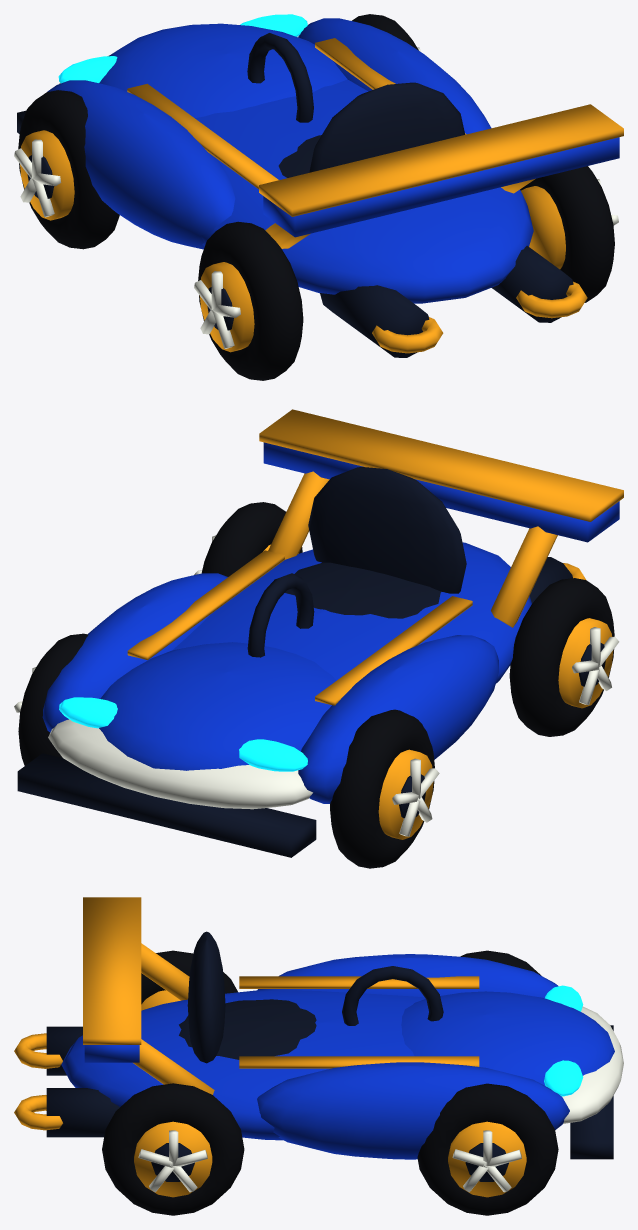
Rendered from kart_blue.glb.
3 renders of one model, top to bottom at view 1: azimuth 30°, elevation 25°; view 2: azimuth 150°, elevation 25°; view 3: azimuth 270°, elevation 25°, orthographic. The views are drawn at different scales.
Visible parts, largest first — view 1: body, wheel-back-left, wheel-front-left, wheel-back-right, wheel-front-right; view 2: body, wheel-back-left, wheel-front-left, wheel-back-right, wheel-front-right; view 3: body, wheel-back-right, wheel-front-right, wheel-back-left, wheel-front-left.
Part boxes in pixels (bbox=[...]): body: bbox=[17, 14, 623, 357]; wheel-back-left: bbox=[194, 221, 303, 380]; wheel-front-left: bbox=[14, 90, 119, 249]; wheel-back-right: bbox=[520, 166, 618, 302]; wheel-front-right: bbox=[352, 14, 420, 51]; body: bbox=[17, 409, 623, 857]; wheel-back-left: bbox=[509, 578, 619, 736]; wheel-front-left: bbox=[330, 709, 439, 868]; wheel-back-right: bbox=[194, 502, 302, 576]; wheel-front-right: bbox=[14, 633, 88, 765]; body: bbox=[14, 897, 623, 1159]; wheel-back-right: bbox=[102, 1083, 244, 1215]; wheel-front-right: bbox=[417, 1083, 558, 1215]; wheel-back-left: bbox=[141, 950, 237, 1010]; wheel-front-left: bbox=[460, 950, 541, 975].
Bounding box in the file's own units: 2.69 × 1.58 × 4.19.
